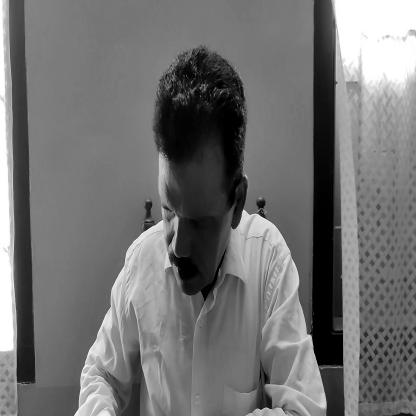Distracted: (152, 33, 248, 313)
